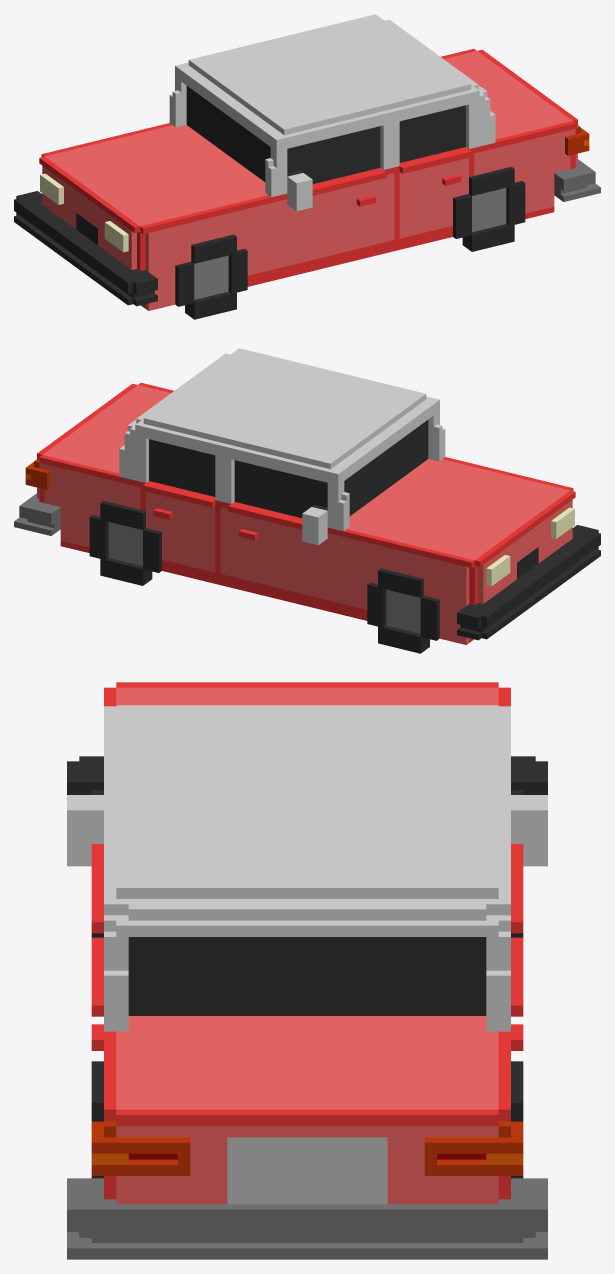
The model's file is car-6.obj.
3 views of the same model, one above another, from view 1: azimuth 30°, elevation 25°; view 2: azimuth 150°, elevation 25°; view 3: azimuth 270°, elevation 25° (orthographic). The views are drawn at different scales.
Bounding box in the file's own units: 8.8 × 2.9 × 3.9.
1 material, 1 textured.
